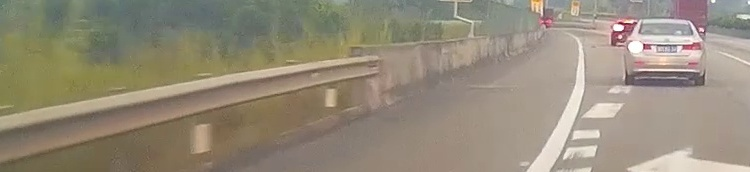L_light: (627, 42, 651, 52)
R_light: (682, 41, 702, 51)
T_light: (660, 31, 672, 35)
day-left: (624, 18, 706, 86)
